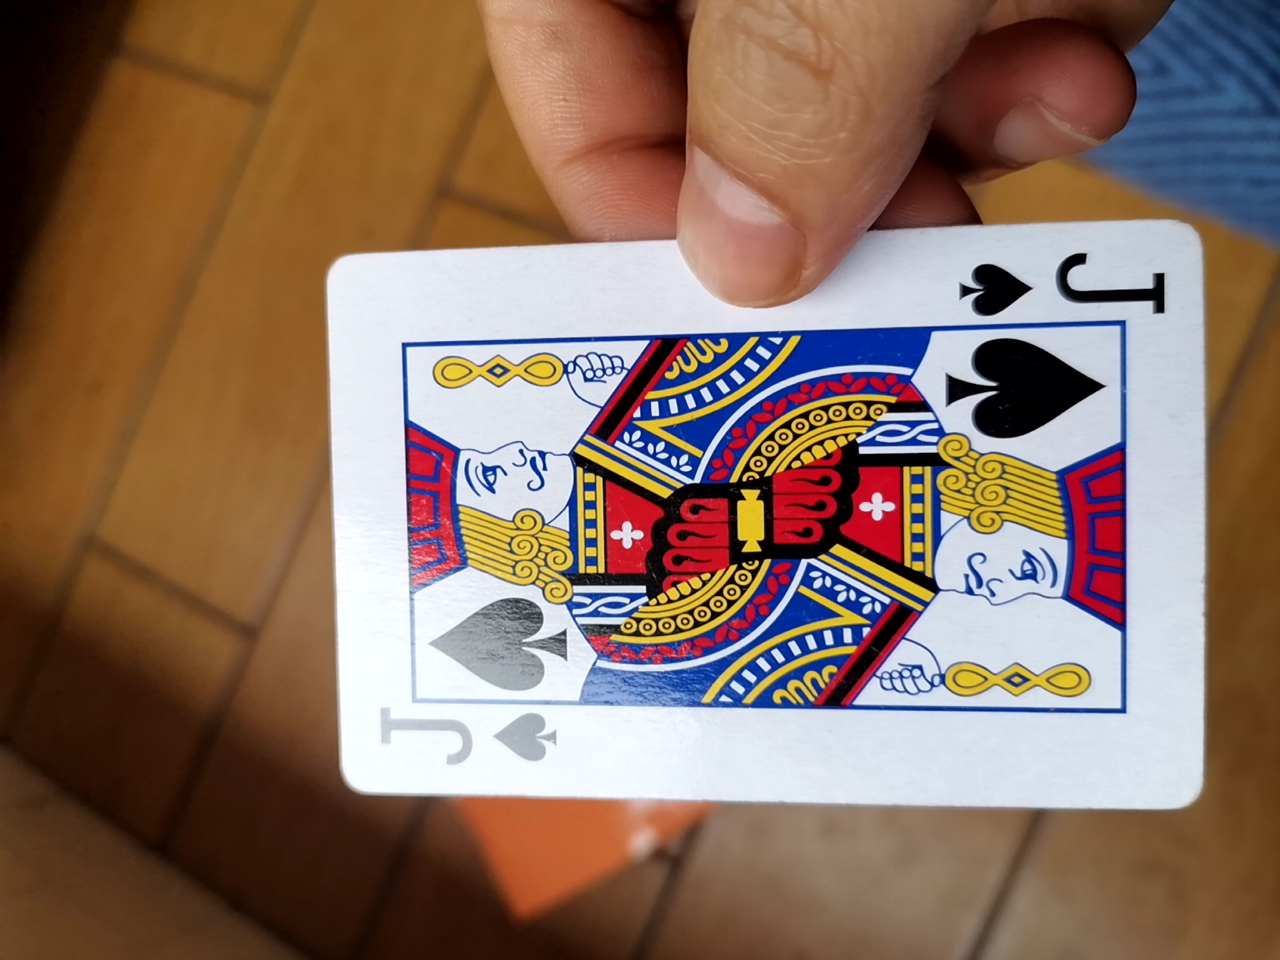ht j: (294, 221, 1189, 804)
